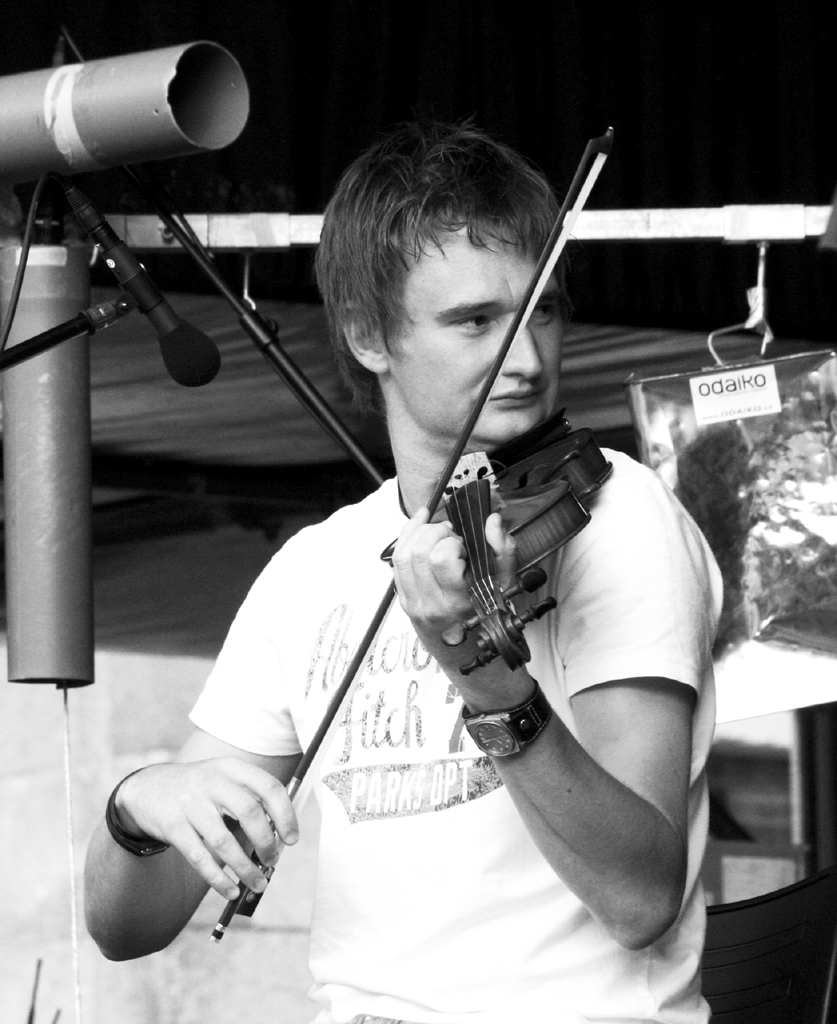Human_hand: (93, 762, 318, 931), (387, 505, 522, 673)
